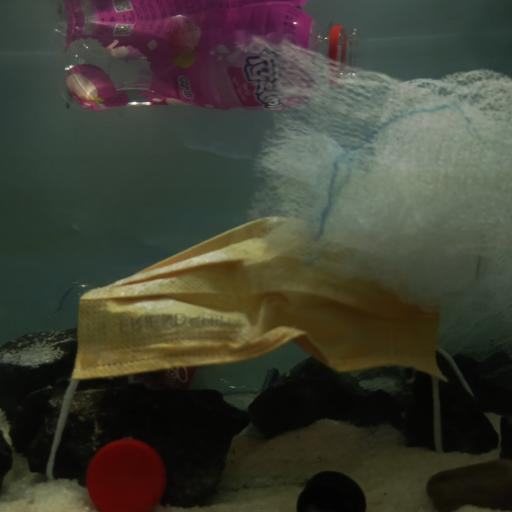bottle_cap: (86, 437, 164, 512), (296, 469, 367, 512)
mask: (71, 216, 458, 386)
net: (251, 32, 512, 358)
plastic_bottle: (58, 0, 360, 112), (58, 274, 283, 398)
